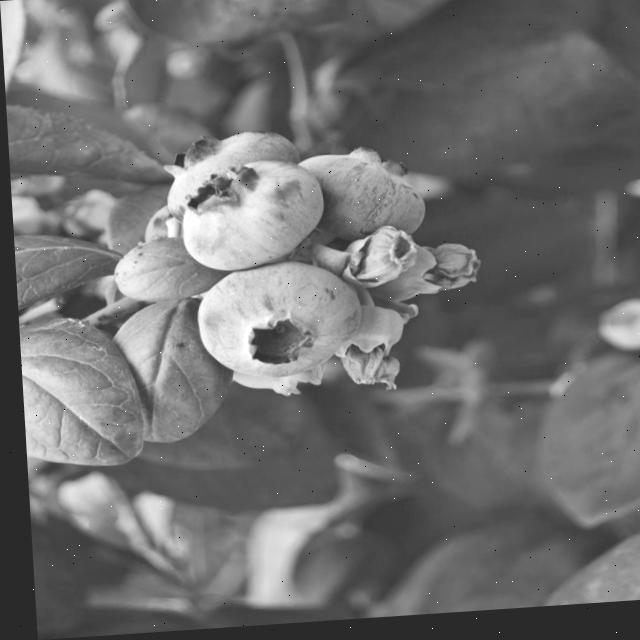RipeBlueBerry: (188, 261, 362, 386), (174, 158, 327, 275), (294, 145, 427, 262)
